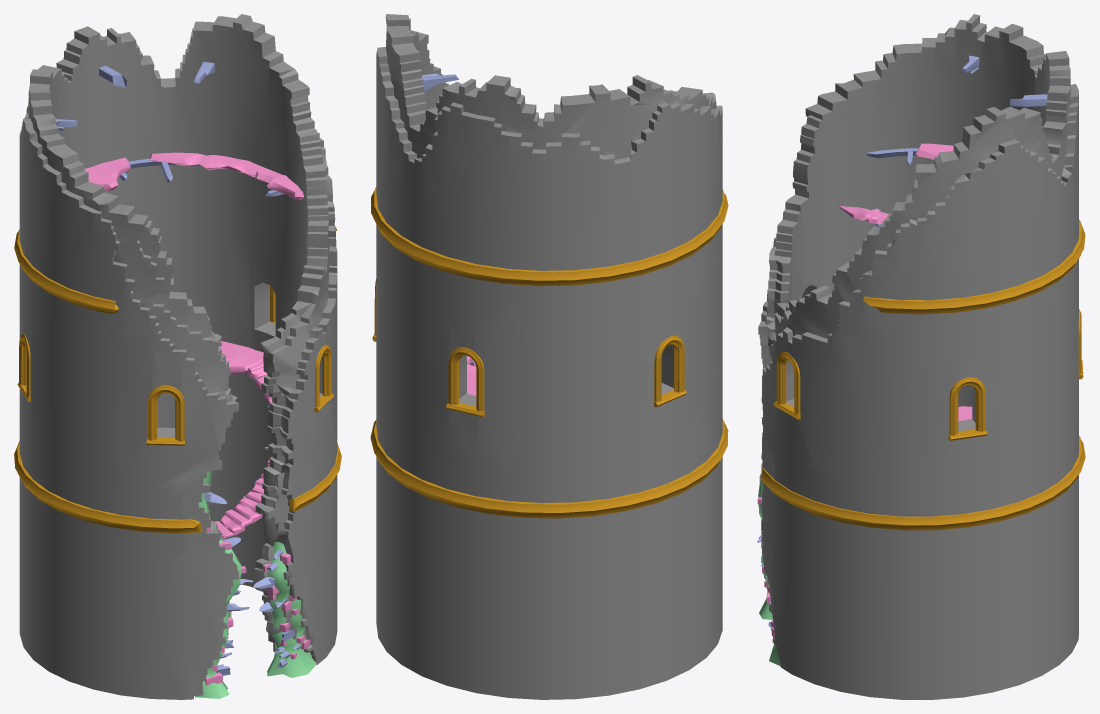
The model's file is SM_Big_Castle_Tower_ALT.fbx.
3 views of the same model, side by side, from view 1: azimuth 30°, elevation 25°; view 2: azimuth 150°, elevation 25°; view 3: azimuth 270°, elevation 25° (orthographic). The views are drawn at different scales.
Parts seen in each view (by area): view 1: SM_Big_Castle_Tower_ALT_LOD0; view 2: SM_Big_Castle_Tower_ALT_LOD0; view 3: SM_Big_Castle_Tower_ALT_LOD0.
Part boxes in pixels (x1,y1,x2,y2): SM_Big_Castle_Tower_ALT_LOD0: (14,14,341,699); SM_Big_Castle_Tower_ALT_LOD0: (370,14,728,699); SM_Big_Castle_Tower_ALT_LOD0: (757,14,1085,699).
Size of what is drawn, in the model's own units: 1082 by 1062 by 2045.
